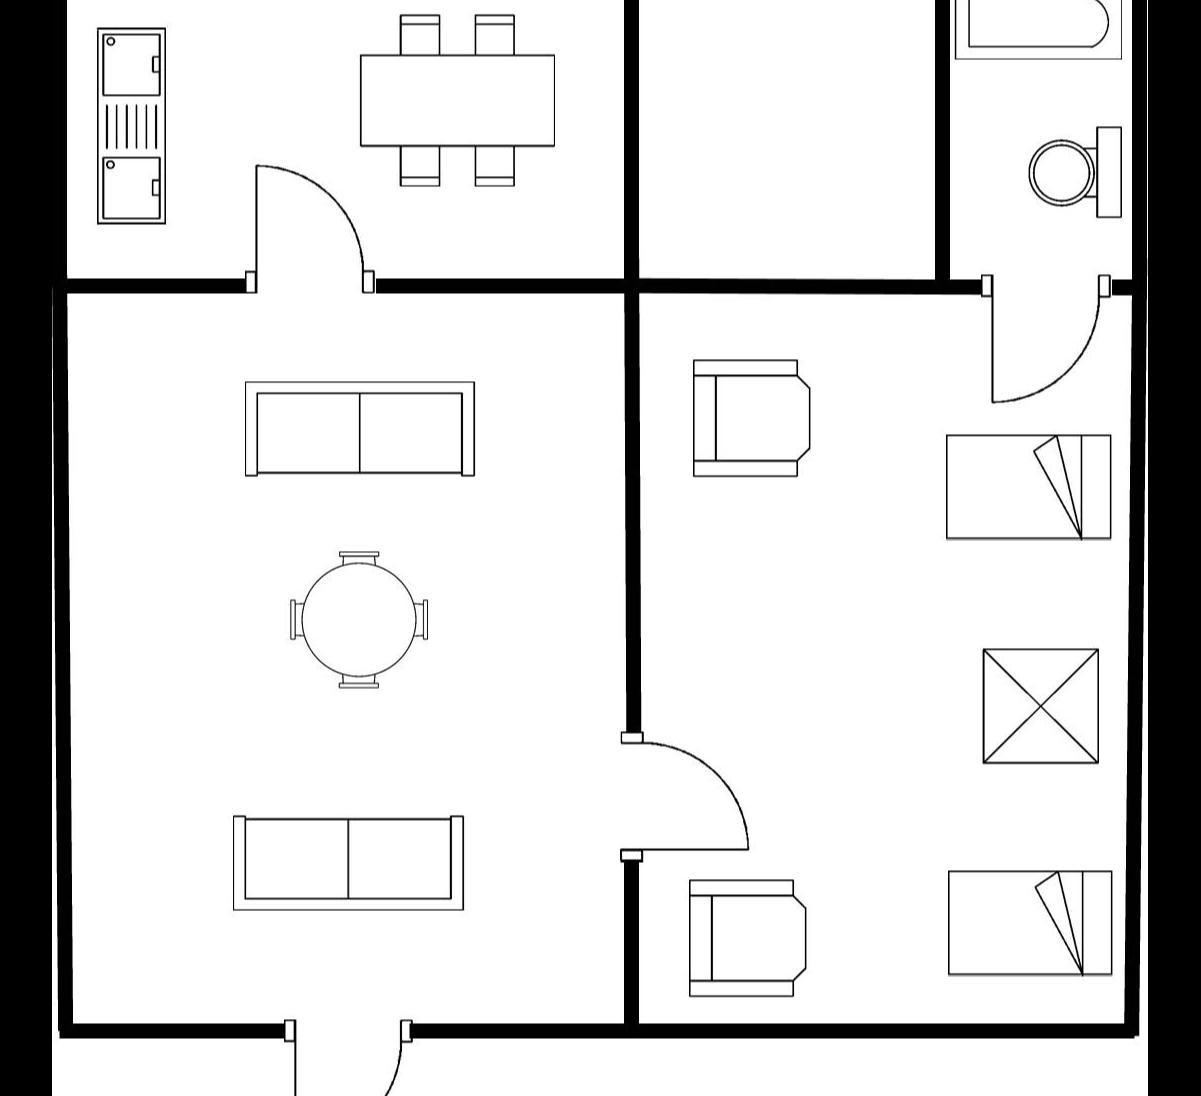sink: (91, 20, 175, 232)
